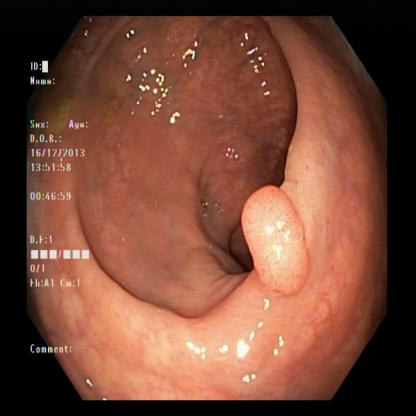Labels: (30, 56, 94, 358)
Polyps: (229, 174, 321, 308)
